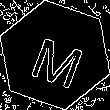M_N: (24, 23, 86, 87)
